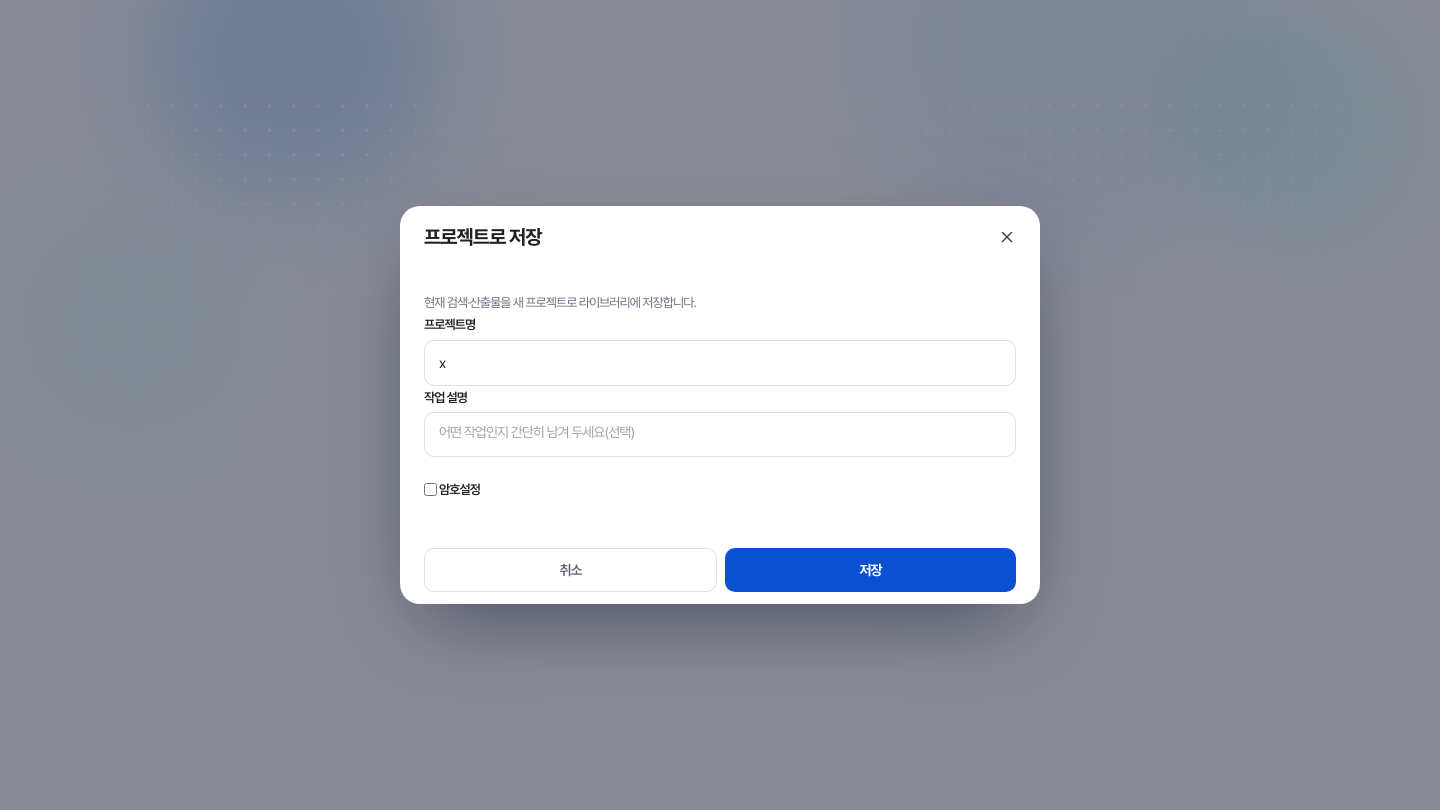
Test: 암호설정은 켰지만 암호를 비워두면 저장할 수 없다
Click the checkbox labelled "암호설정": (430, 490) x1=424 y1=468 x2=437 y2=512
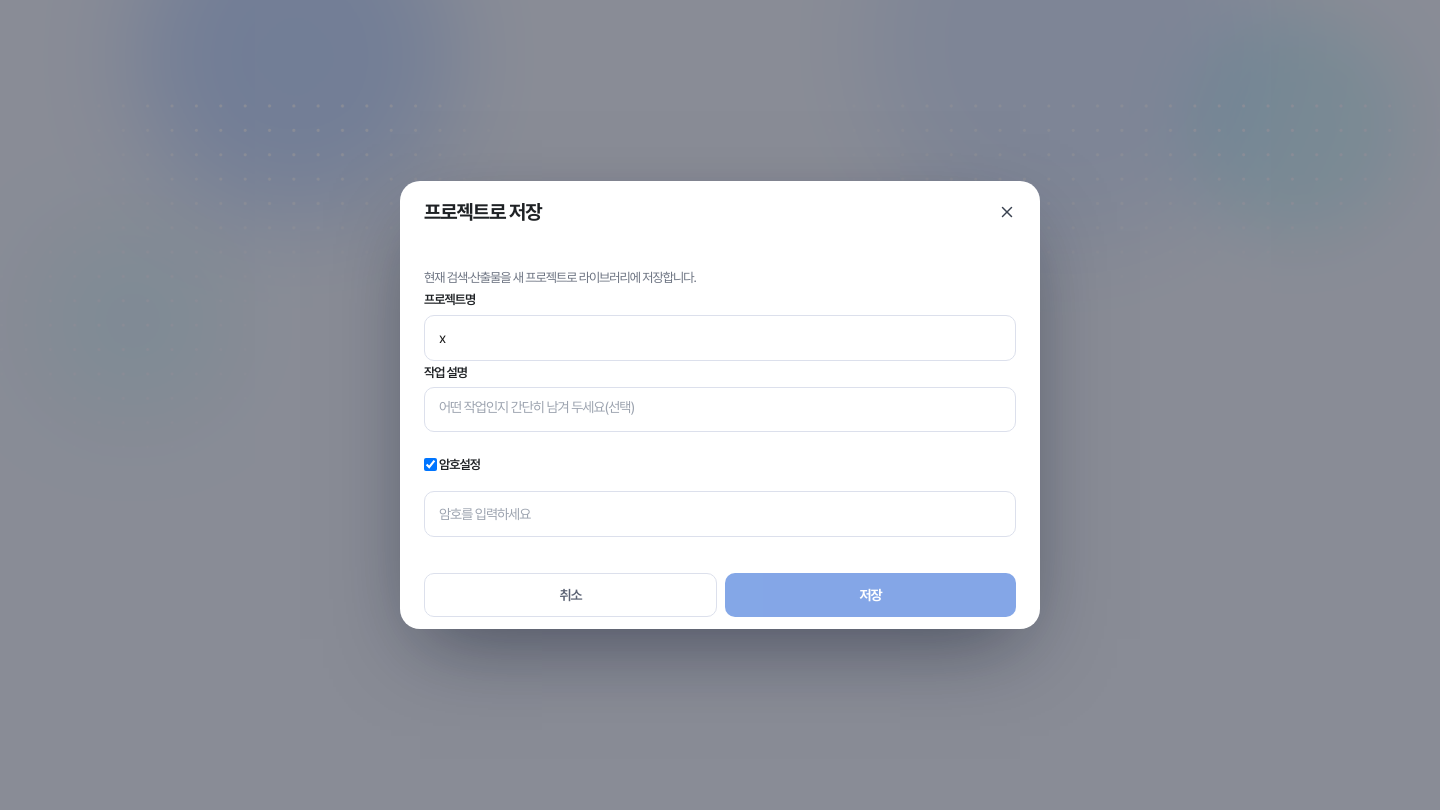
expect the button "저장" is disabled: met, box x1=725 y1=574 x2=1016 y2=618
